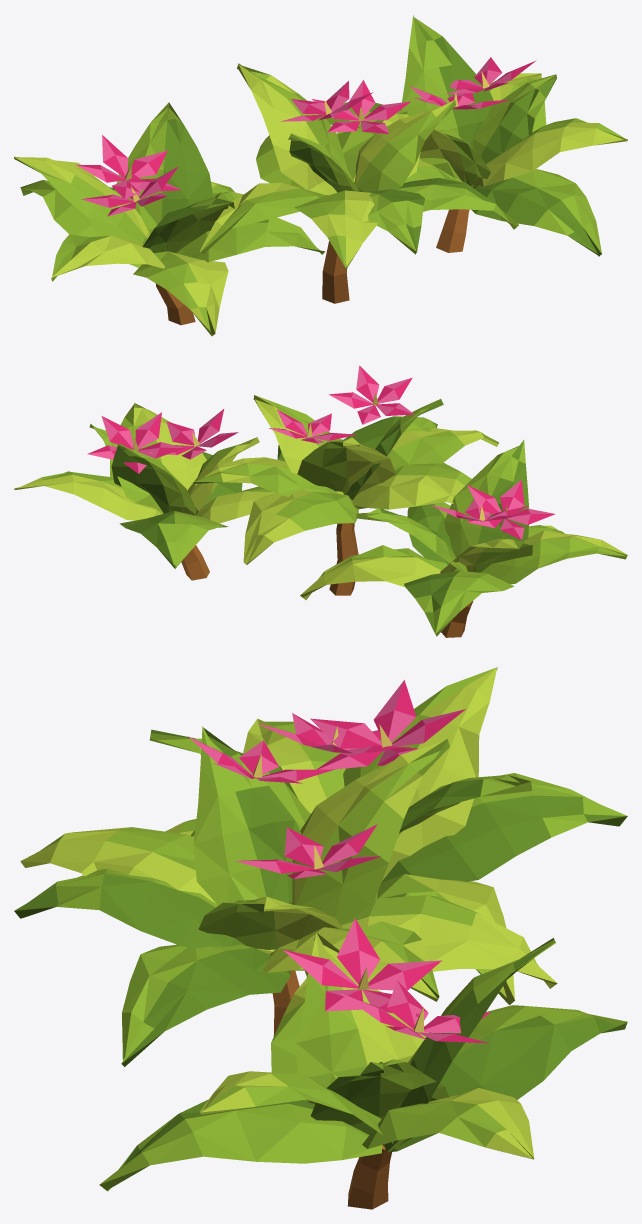
The model's file is nmg_plant_a_flor.glb.
3 renders of one model, top to bottom at view 1: azimuth 30°, elevation 25°; view 2: azimuth 150°, elevation 25°; view 3: azimuth 270°, elevation 25°, orthographic. The views are drawn at different scales.
Parts seen in each view (by area): view 1: nmg_plant_a_flor; view 2: nmg_plant_a_flor; view 3: nmg_plant_a_flor.
Boxes of the visible parts, x1=… form: nmg_plant_a_flor: x1=14, y1=15, x2=627, y2=336; nmg_plant_a_flor: x1=14, y1=365, x2=627, y2=637; nmg_plant_a_flor: x1=14, y1=666, x2=627, y2=1209.
Size of the model in its own units: 1.48 by 0.5459 by 0.8826.
